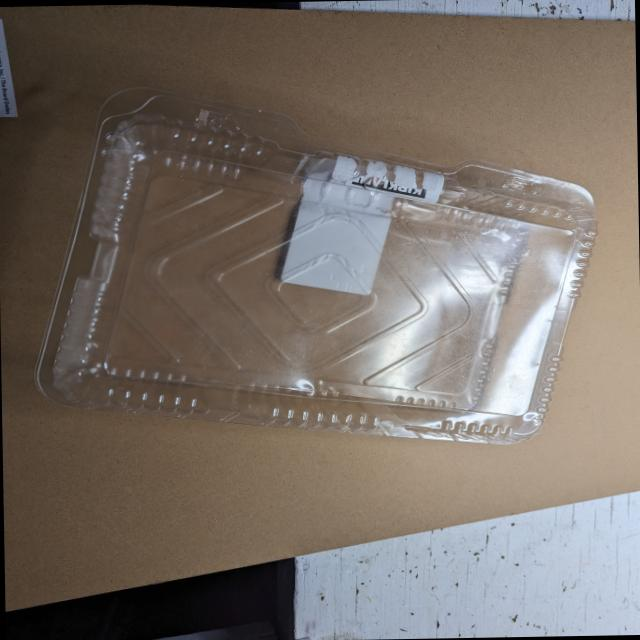Clamshell: (14, 62, 618, 460)
Label: (276, 144, 447, 298)
